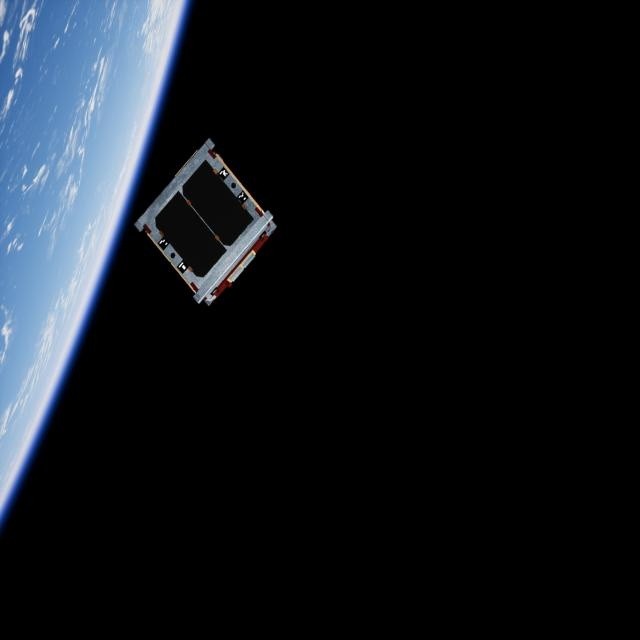satellite: (132, 136, 294, 305)
